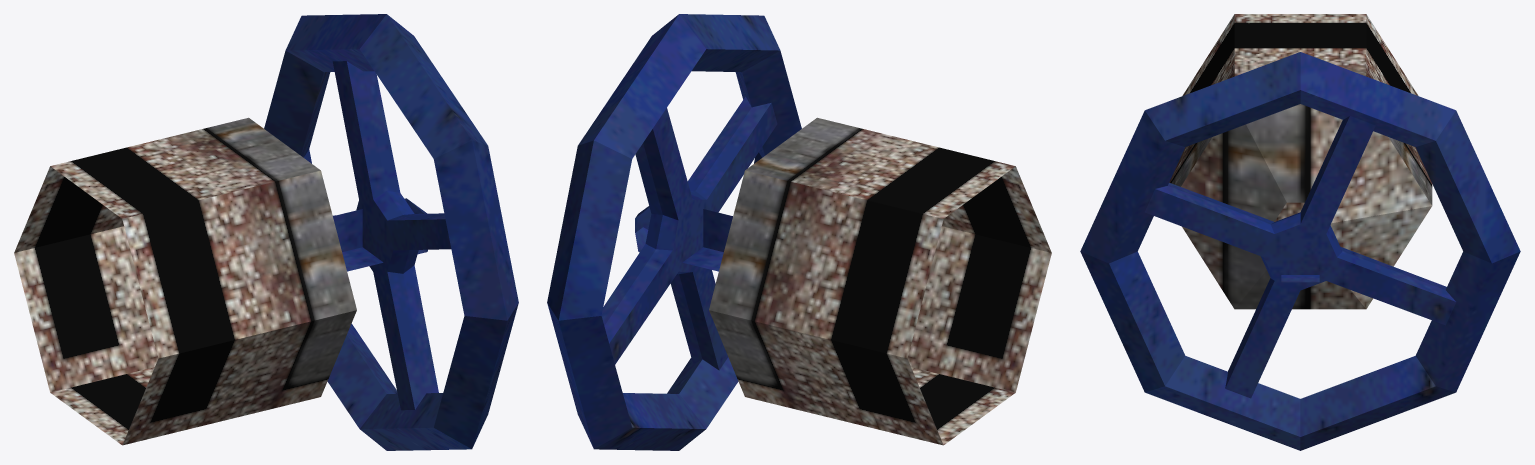
The model's file is Urban_ValveBlueEndPiece_Model.fbx.
3 renders of one model, left to right at view 1: azimuth 30°, elevation 25°; view 2: azimuth 150°, elevation 25°; view 3: azimuth 270°, elevation 25°, orthographic. The views are drawn at different scales.
Parts seen in each view (by area): view 1: Urban_ValveBlueEndPiece_Mesh; view 2: Urban_ValveBlueEndPiece_Mesh; view 3: Urban_ValveBlueEndPiece_Mesh.
Part boxes in pixels (left/top/right/bottom): Urban_ValveBlueEndPiece_Mesh: left=14, top=14, right=518, bottom=450; Urban_ValveBlueEndPiece_Mesh: left=547, top=14, right=1051, bottom=450; Urban_ValveBlueEndPiece_Mesh: left=1080, top=14, right=1520, bottom=450.
Size of the model in its own units: 0.3399 by 0.4167 by 0.4167.
